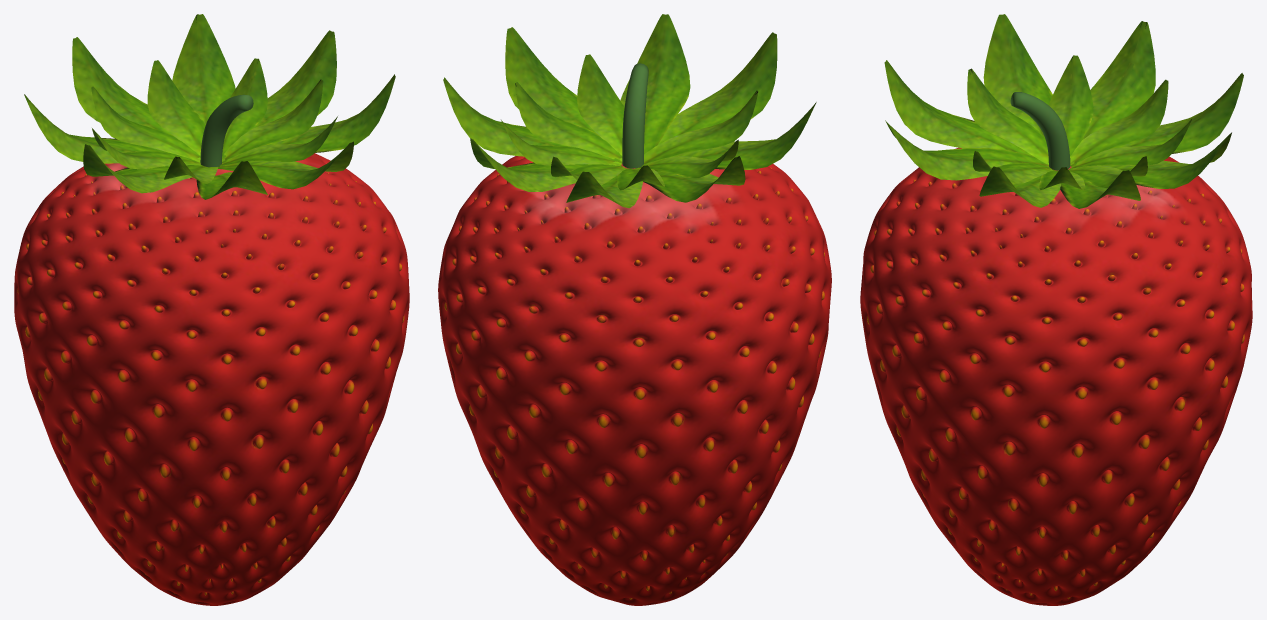
Rendered from fresa.glb.
3 renders of one model, left to right at view 1: azimuth 30°, elevation 25°; view 2: azimuth 150°, elevation 25°; view 3: azimuth 270°, elevation 25°, orthographic.
Visible parts, largest first — view 1: strawberry; view 2: strawberry; view 3: strawberry.
Part boxes in pixels (box(x1,y1,x2,y2)): strawberry: box(14, 14, 409, 605); strawberry: box(438, 14, 831, 605); strawberry: box(860, 14, 1252, 605).
Size of the model in its own units: 4.9 by 7.08 by 4.9.
1 material, 1 textured.
